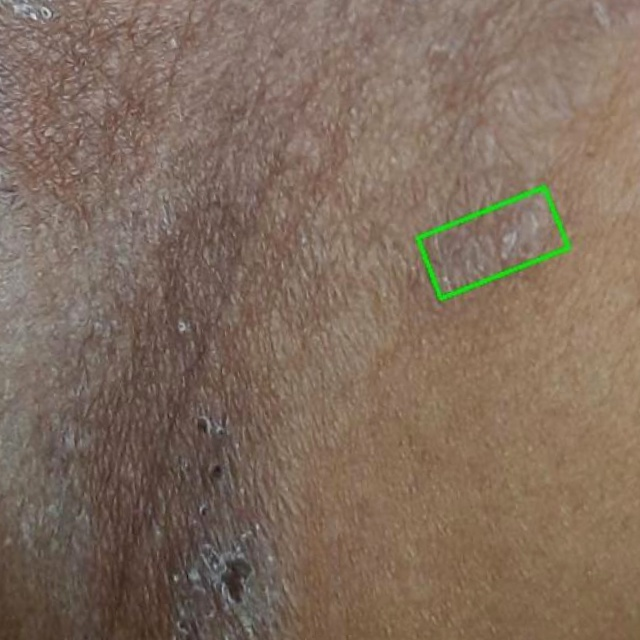Contact Dermatitis: (416, 186, 568, 297)
